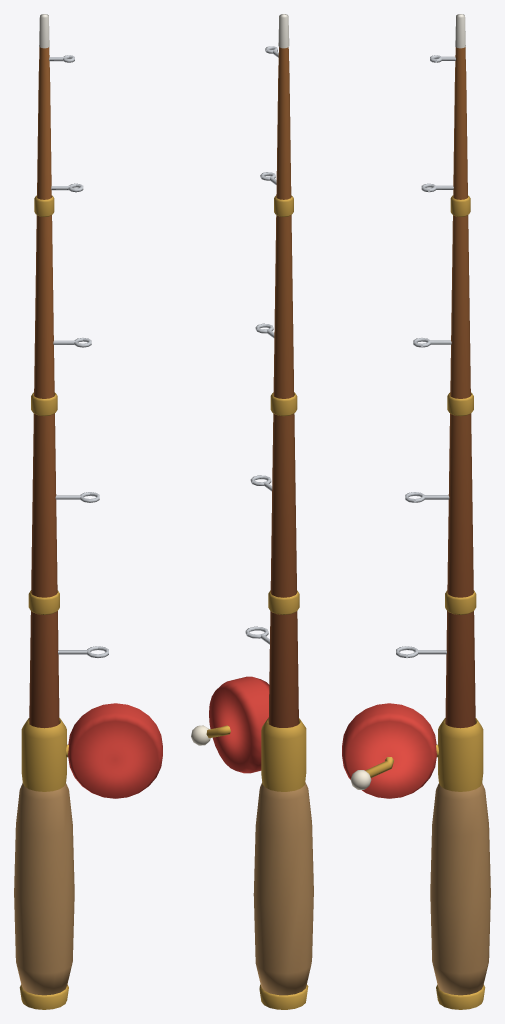
The model's file is style_rod.glb.
3 views of the same model, side by side, from view 1: azimuth 90°, elevation 25°; view 2: azimuth 210°, elevation 25°; view 3: azimuth 270°, elevation 25° (orthographic).
Parts seen in each view (by area): view 1: style_rod_gloss, style_rod_main; view 2: style_rod_gloss, style_rod_main; view 3: style_rod_gloss, style_rod_main.
Part boxes in pixels (x1,y1,x2,y2): style_rod_gloss: [19, 47, 108, 1009]; style_rod_main: [14, 14, 162, 995]; style_rod_gloss: [206, 46, 308, 1009]; style_rod_main: [191, 14, 313, 995]; style_rod_gloss: [365, 47, 485, 1009]; style_rod_main: [342, 14, 490, 995].
Bounding box in the file's own units: 0.0825 × 1.15 × 0.157.
